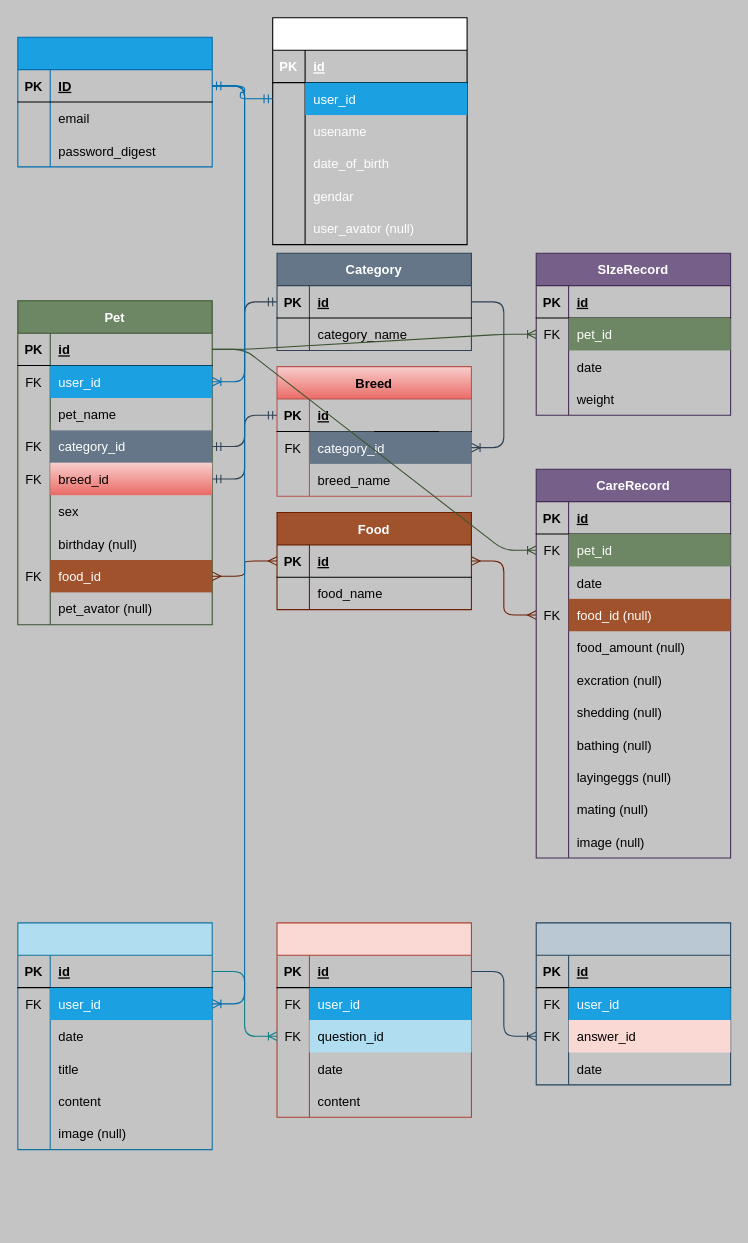
This 748x1243 diagram has some shape labels left out. Here are the shapes that lost their labels. From the top down, the box of each, then its label:
(17, 36, 212, 167): User
(276, 922, 471, 1117): Answer
(535, 922, 731, 1085): Like
(17, 922, 212, 1150): Question
